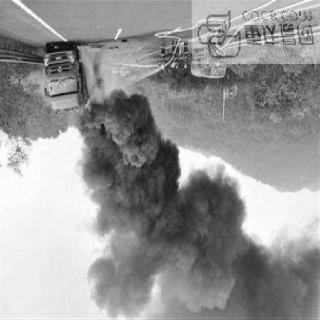Fire: (72, 90, 96, 123)
Smoke: (87, 105, 307, 312)
